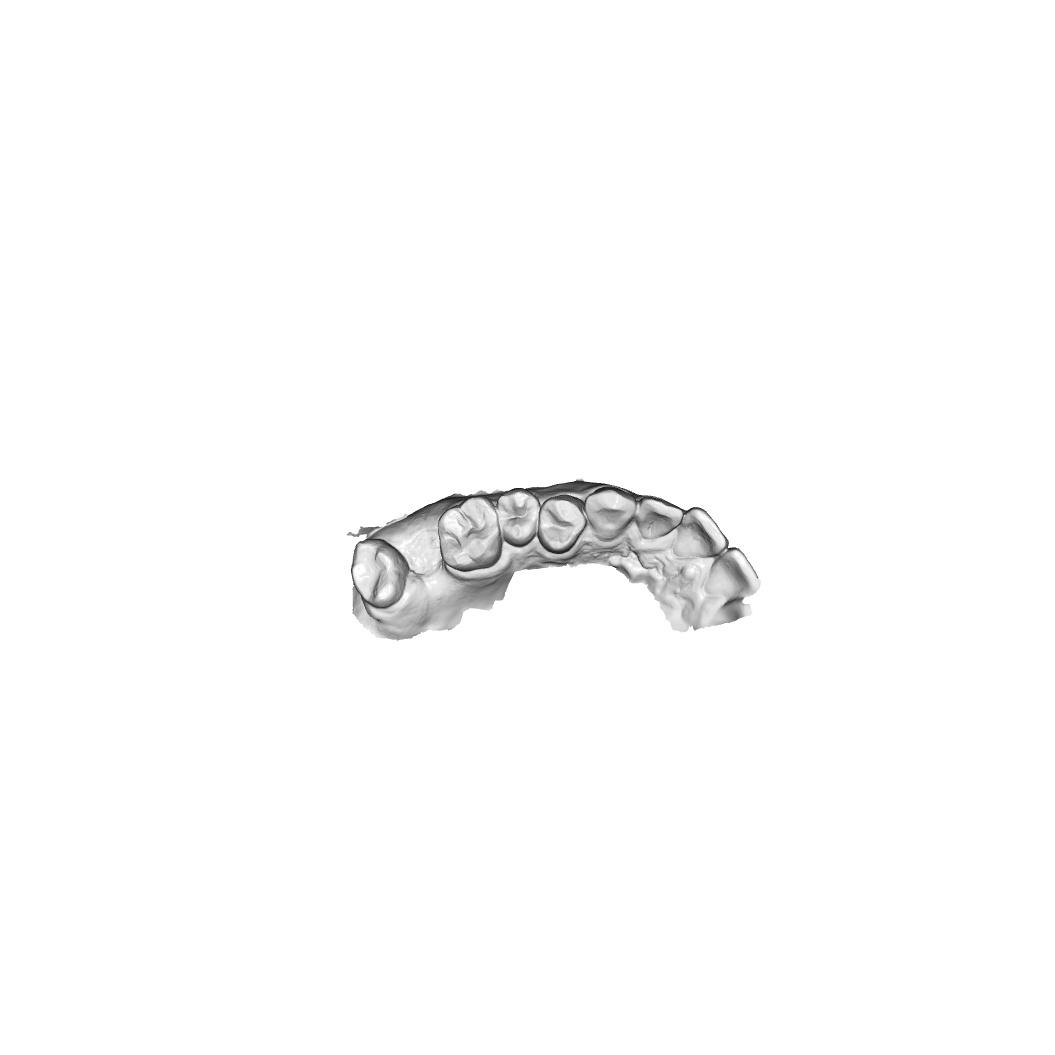canine: (583, 484, 638, 541)
incisor: (702, 546, 763, 601), (673, 505, 730, 560), (635, 494, 684, 542)
molar: (437, 494, 503, 573), (350, 537, 410, 609)
premolar: (538, 494, 588, 555), (496, 486, 541, 549)
